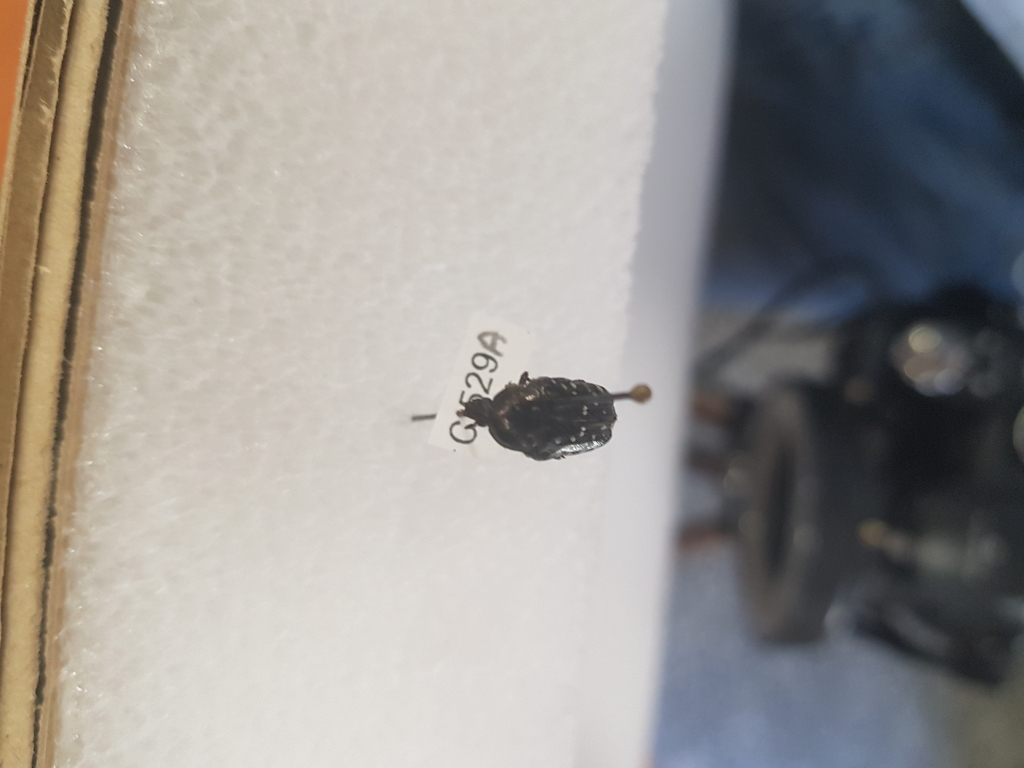Oxythyrea_funesta: (463, 361, 623, 465)
